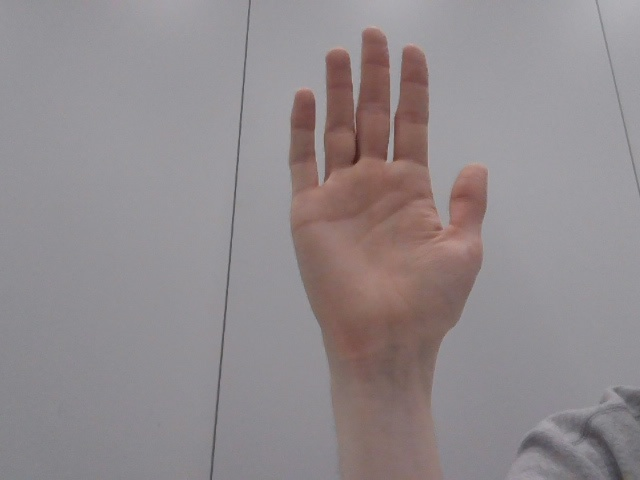nada: (265, 10, 527, 384)
